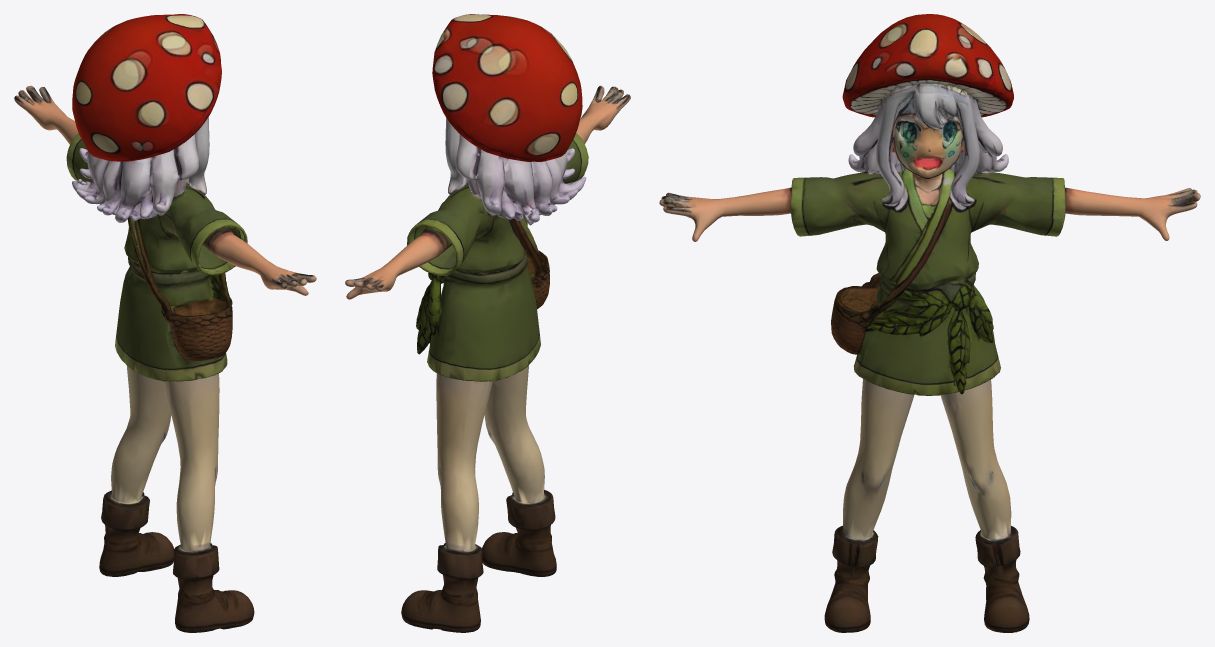
The model's file is n2_story_fenna.776874c7.glb.
3 renders of one model, left to right at view 1: azimuth 30°, elevation 25°; view 2: azimuth 150°, elevation 25°; view 3: azimuth 270°, elevation 25°, orthographic.
Visible parts, largest first — view 1: tripo_node_717d6988-a50f-4da7-b21c-a238d87737b4; view 2: tripo_node_717d6988-a50f-4da7-b21c-a238d87737b4; view 3: tripo_node_717d6988-a50f-4da7-b21c-a238d87737b4.
Part boxes in pixels (x1,y1,x2,y2): tripo_node_717d6988-a50f-4da7-b21c-a238d87737b4: (14,14,316,632); tripo_node_717d6988-a50f-4da7-b21c-a238d87737b4: (345,14,630,632); tripo_node_717d6988-a50f-4da7-b21c-a238d87737b4: (659,14,1200,632).
Size of the model in its own units: 0.2606 by 0.9998 by 0.8405.
Materials: 1 (1 with a texture image).
